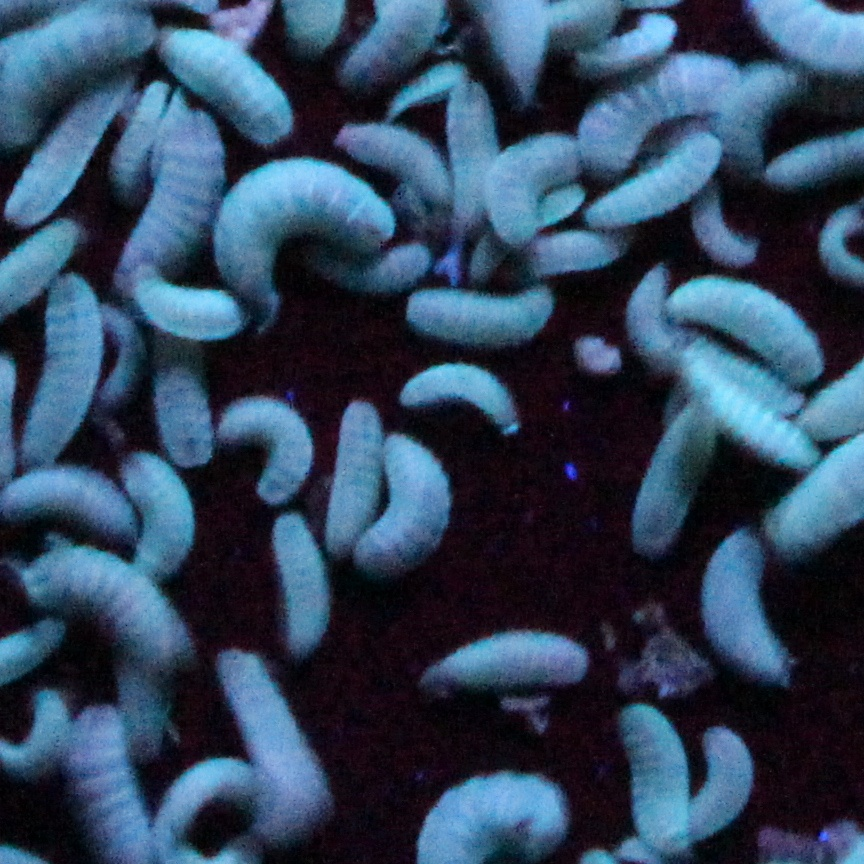larve: (201, 153, 394, 287), (14, 530, 201, 666), (206, 644, 327, 825), (672, 267, 835, 394), (147, 21, 308, 140), (6, 66, 119, 233), (696, 513, 798, 694), (629, 387, 732, 554), (426, 610, 601, 703), (581, 123, 727, 231), (203, 379, 321, 510), (614, 700, 706, 861), (386, 344, 537, 441), (390, 269, 565, 351), (139, 747, 258, 858), (317, 389, 391, 566), (662, 720, 763, 849), (363, 435, 445, 589), (480, 131, 585, 248), (129, 256, 255, 353), (622, 269, 717, 380), (270, 512, 339, 662), (449, 91, 510, 242)
